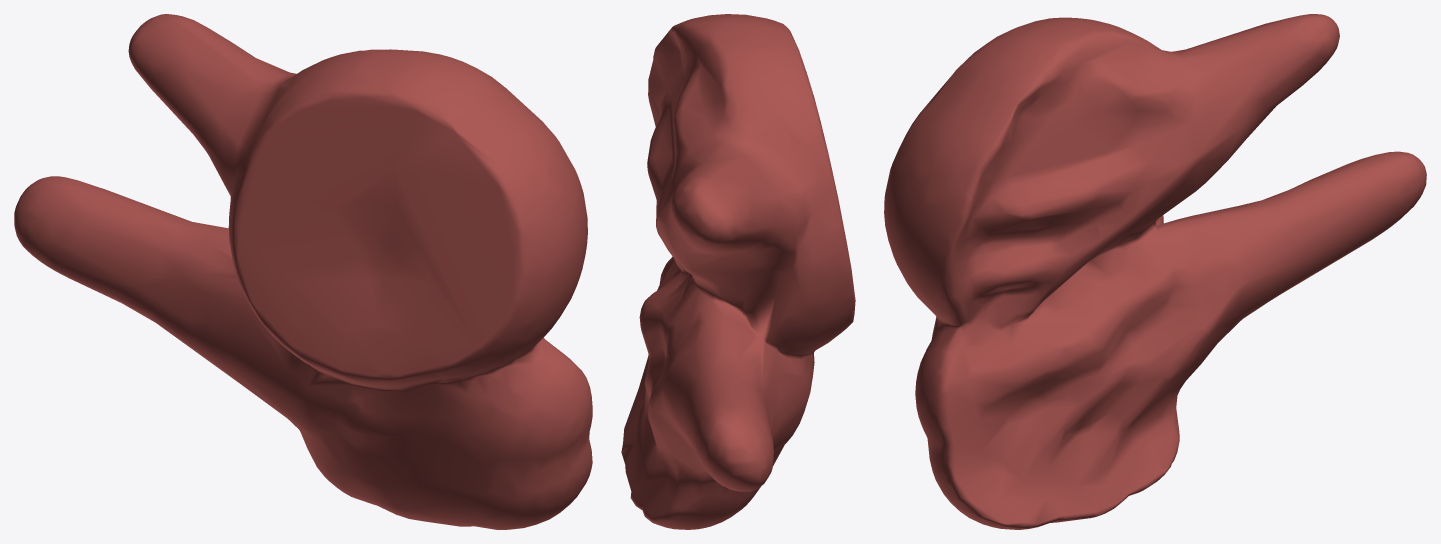
The model's file is FMA9352nsn.glb.
3 views of the same model, side by side, from view 1: azimuth 30°, elevation 25°; view 2: azimuth 150°, elevation 25°; view 3: azimuth 270°, elevation 25° (orthographic). The views are drawn at different scales.
Visible parts, largest first — view 1: FMA9352nsn; view 2: FMA9352nsn; view 3: FMA9352nsn.
Boxes of the visible parts, <box> form: FMA9352nsn: <box>14,14,592,529</box>; FMA9352nsn: <box>621,14,855,529</box>; FMA9352nsn: <box>884,14,1426,529</box>.
Bounding box in the file's own units: 0.0252 × 0.0331 × 0.0356.
